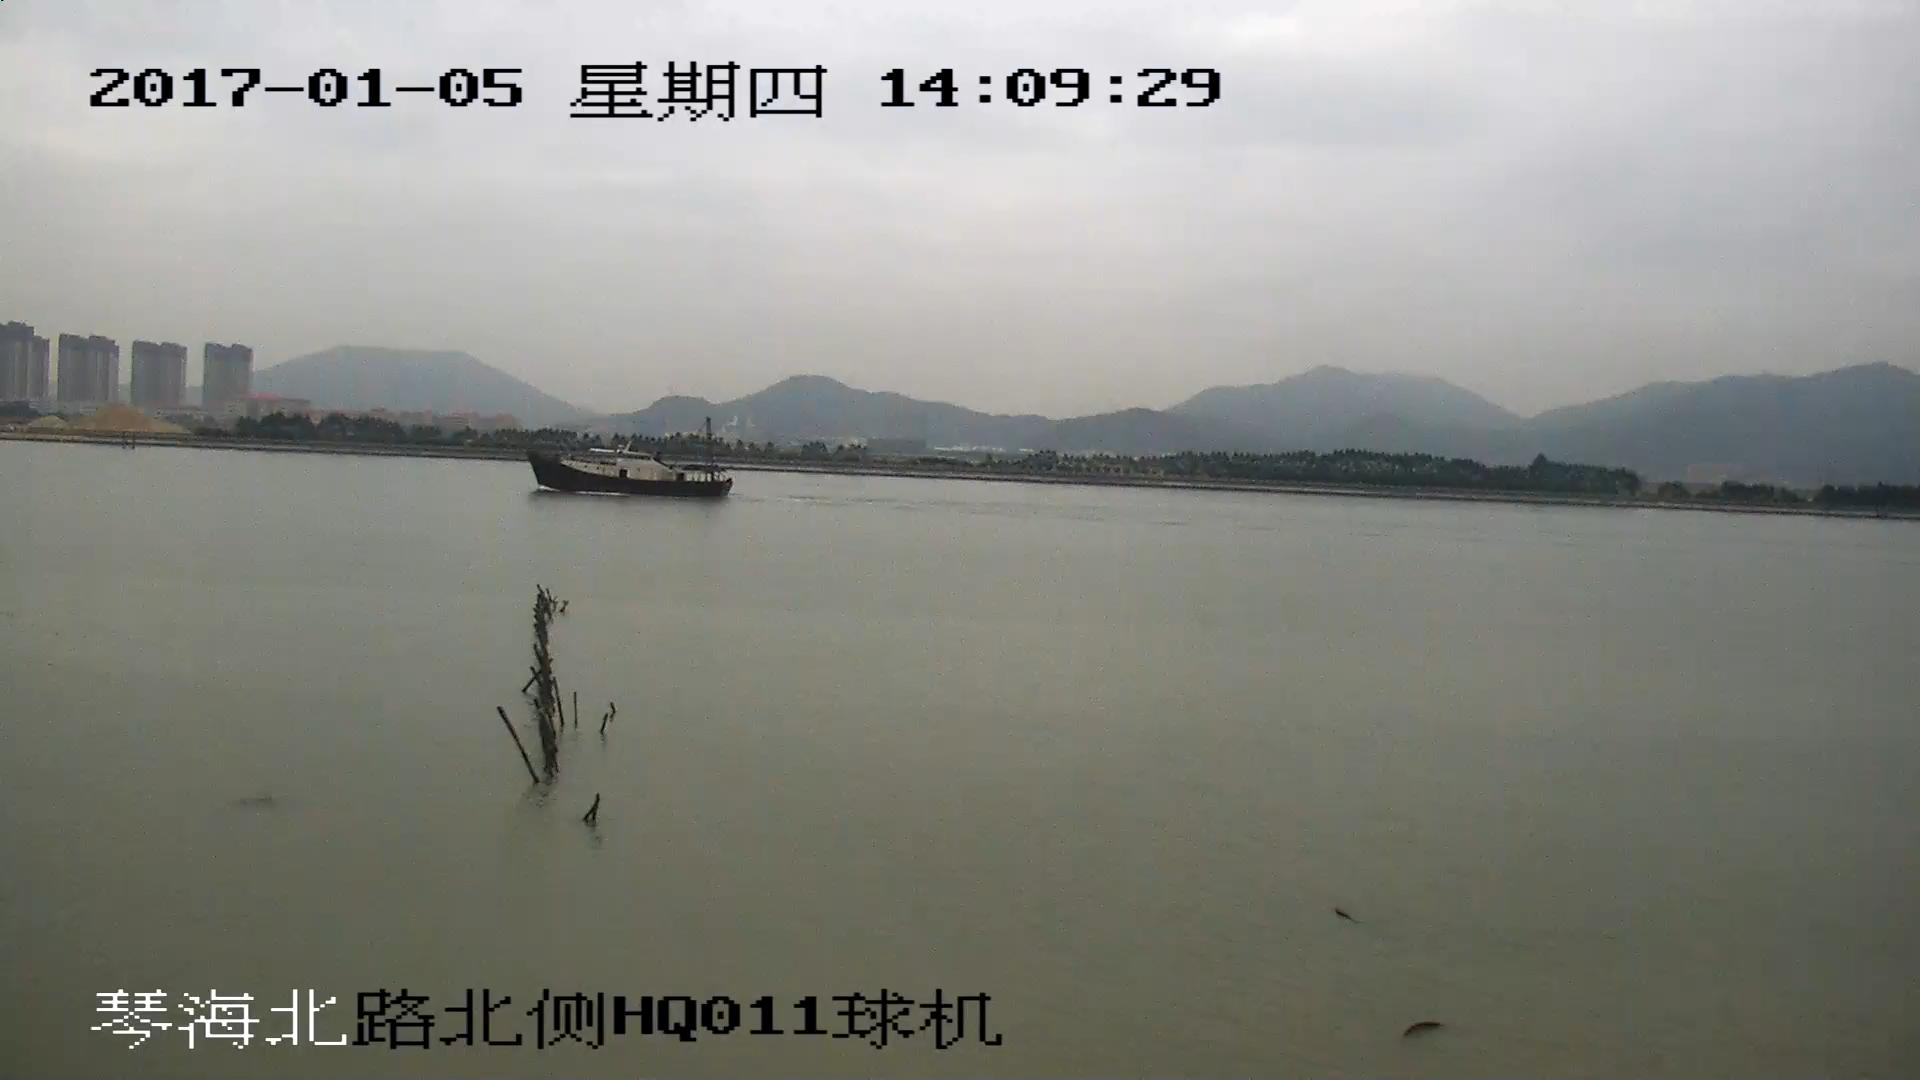fishing boat: (530, 410, 735, 498)
